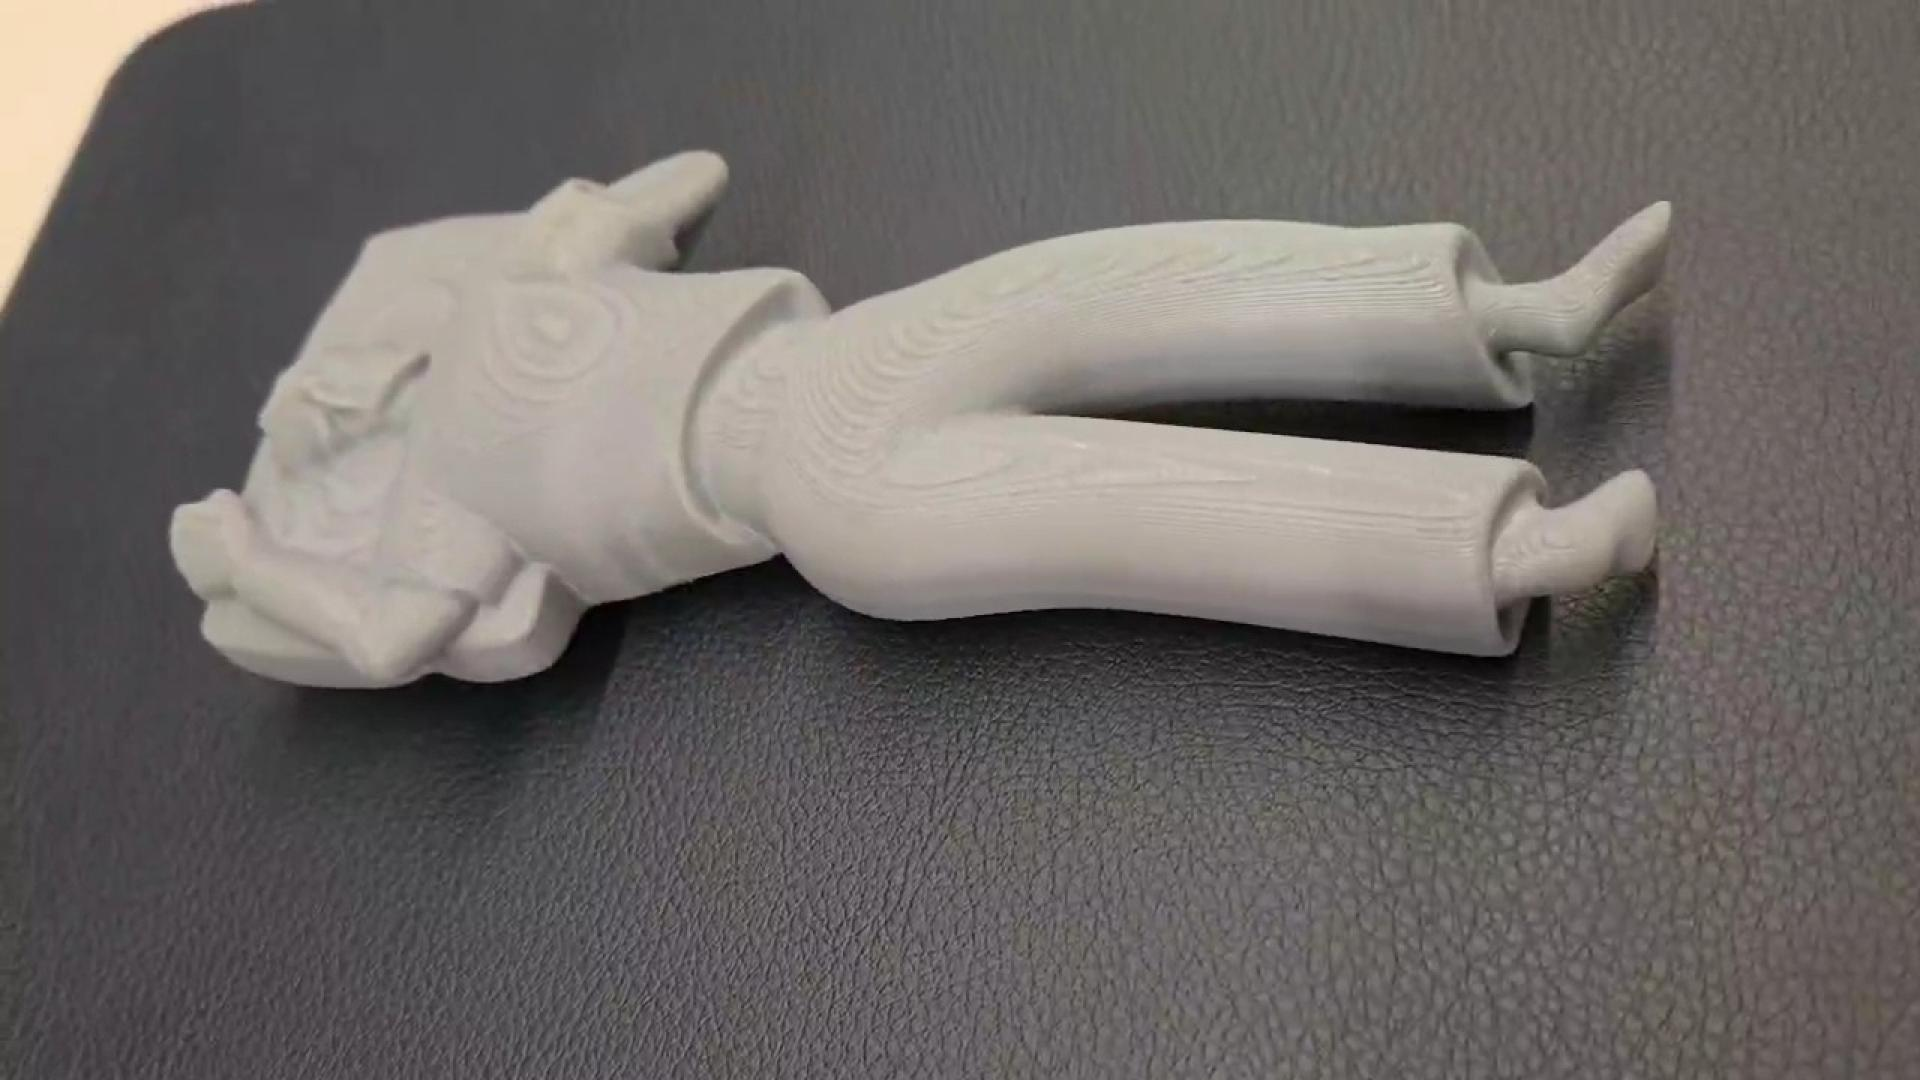Bad-style: (164, 142, 1676, 698)
